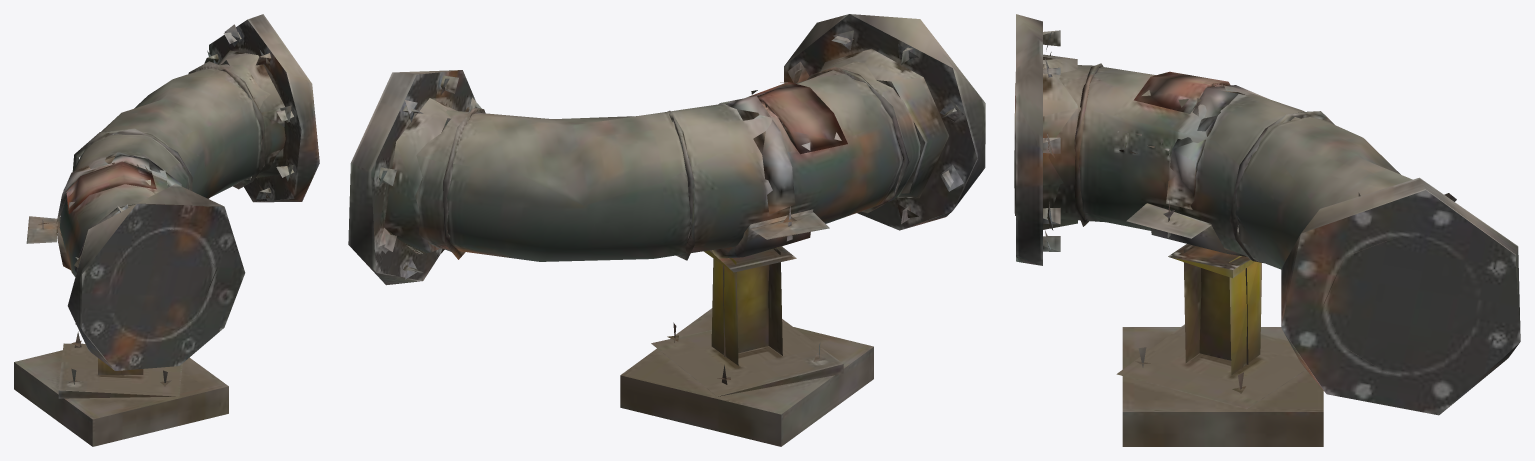
The model's file is cano_curva.glb.
3 renders of one model, left to right at view 1: azimuth 30°, elevation 25°; view 2: azimuth 150°, elevation 25°; view 3: azimuth 270°, elevation 25°, orthographic. The views are drawn at different scales.
Parts seen in each view (by area): view 1: cano_curva_corpo; view 2: cano_curva_corpo; view 3: cano_curva_corpo.
Boxes of the visible parts, bbox=[...] form: cano_curva_corpo: bbox=[14, 14, 319, 446]; cano_curva_corpo: bbox=[348, 14, 985, 446]; cano_curva_corpo: bbox=[1014, 14, 1520, 446].
Size of the model in its own units: 0.6615 by 0.5042 by 0.6547.
1 material, 1 textured.
